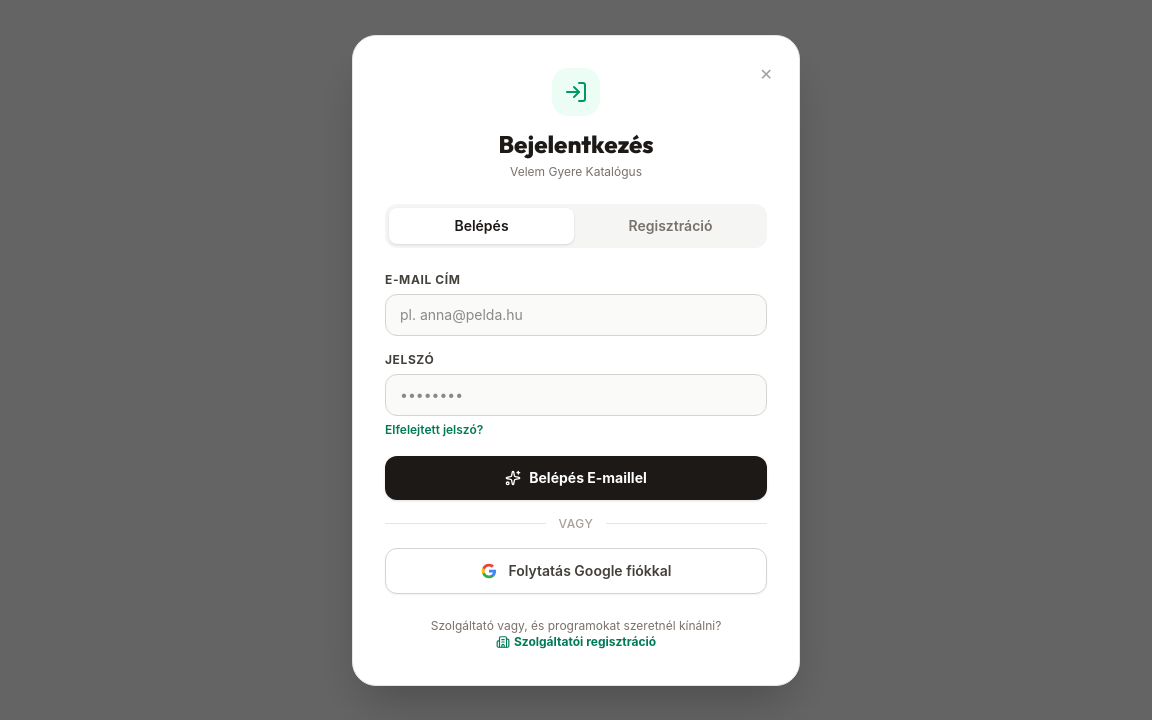
Scenario: LoginModal -- elfelejtett jelszó (af2a6460) › az "Elfelejtett jelszó?" linkre valtva csak az email mezot mutatja, jelszot nem
Click the button "Elfelejtett jelszó?": [434, 430] box [385,422,483,438]
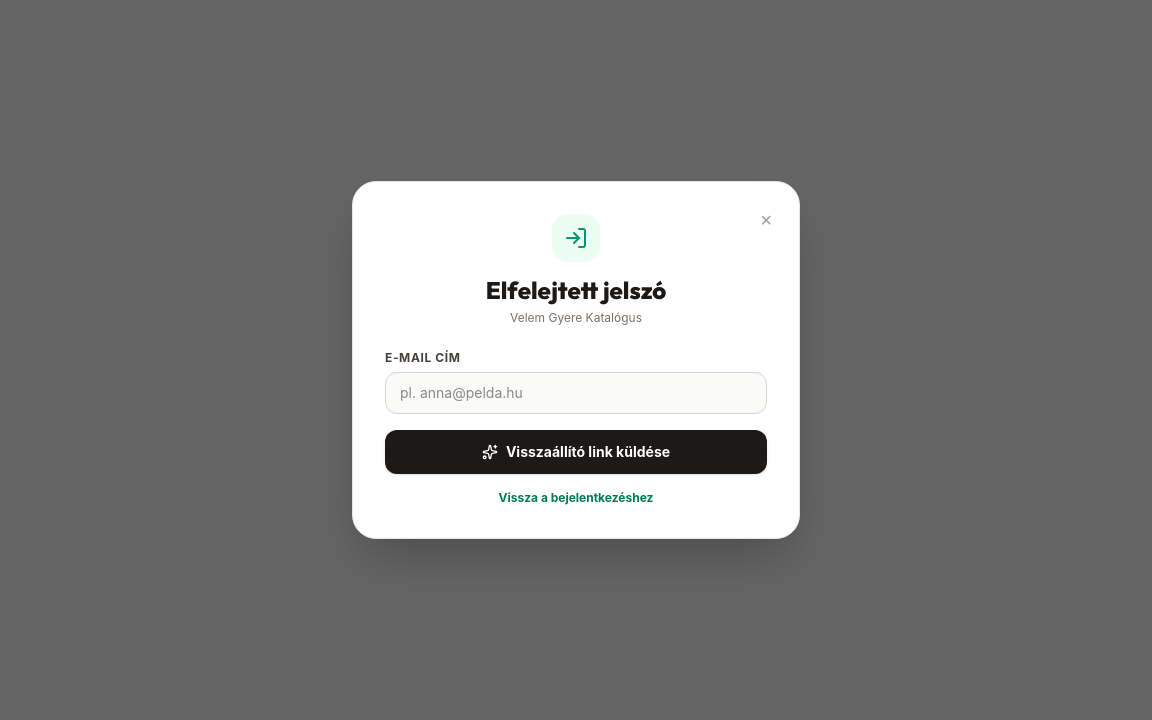
expect the heading "Elfelejtett jelszó" is shown: met, box [486,275,666,305]
expect the password field with placeholder "••••••••" is gone: met
expect the button "Visszaállító link küldése" is shown: met, box [385,430,767,474]
